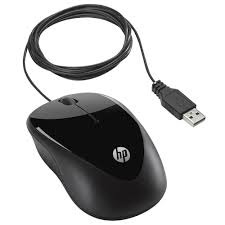mouse: (18, 91, 169, 222)
